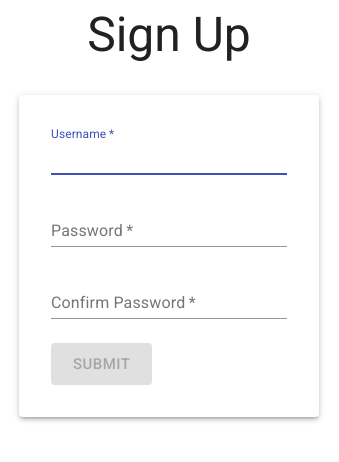
Test: <SignUp /> › should disable the submit button and show an error if password fields don't match
Step 1. Type "some user" into the field labelled "Username *" → x=169, y=159, box left=51, top=143, right=287, bottom=175
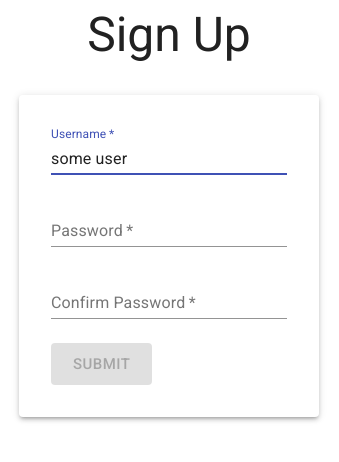
Step 2. Type "secret" into the password field labelled "Password *" → x=169, y=231, box left=51, top=215, right=287, bottom=247
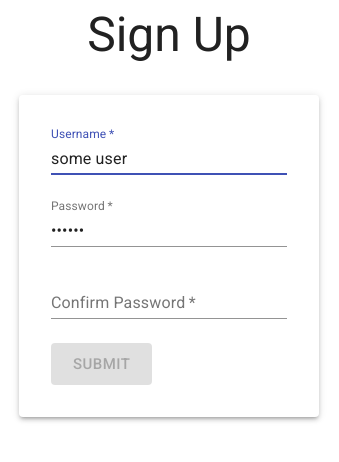
Step 3. Type "foo" into the password field labelled "Confirm Password *" → x=169, y=303, box left=51, top=287, right=287, bottom=319
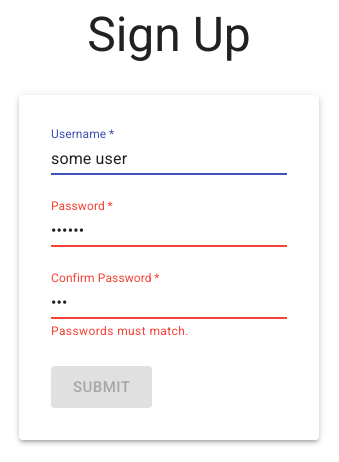
Check: the button with test id "submit" is disabled, box left=51, top=366, right=152, bottom=408
Check: the text "Passwords must match." is shown, box left=51, top=324, right=189, bottom=338
